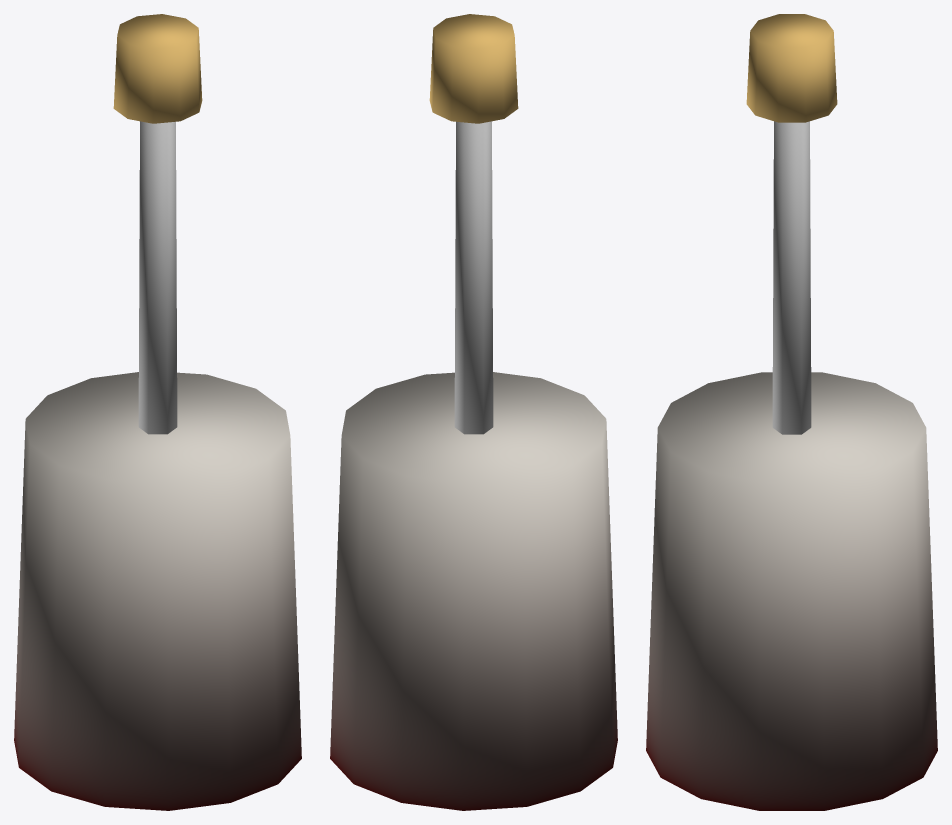
The model's file is Prop_Buoy.glb.
The picture shows the model from 3 angles, left to right: view 1: azimuth 30°, elevation 25°; view 2: azimuth 150°, elevation 25°; view 3: azimuth 270°, elevation 25°; orthographic projection.
Parts seen in each view (by area): view 1: Prop_Buoy; view 2: Prop_Buoy; view 3: Prop_Buoy.
Part boxes in pixels (left/top/right/bottom): Prop_Buoy: left=14, top=14, right=301, bottom=810; Prop_Buoy: left=330, top=14, right=617, bottom=810; Prop_Buoy: left=646, top=14, right=937, bottom=810.
Size of the model in its own units: 0.8774 by 2.45 by 0.9.
